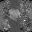people: (9, 9, 21, 20)
